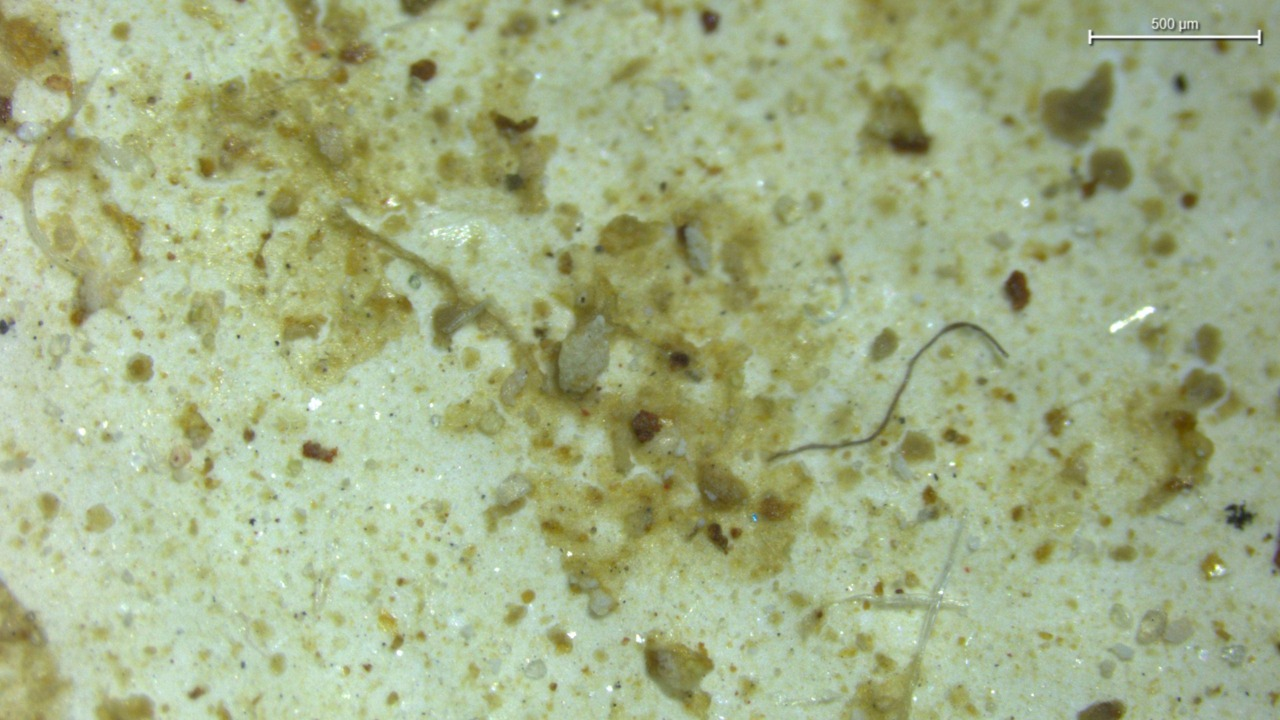microplastic_fragment: (557, 314, 613, 394), (678, 221, 712, 273)
